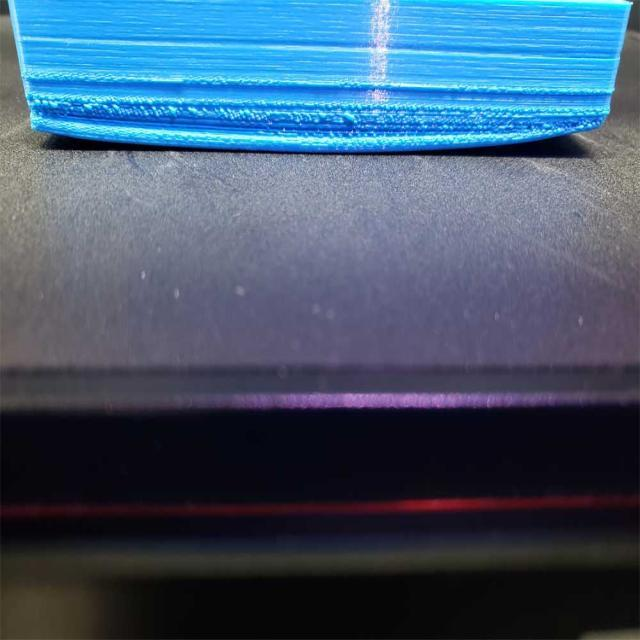Warping: (6, 104, 618, 172)
